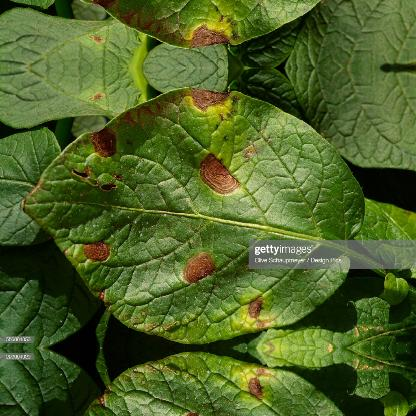Early-Blight: (21, 91, 367, 344), (81, 351, 343, 416)
